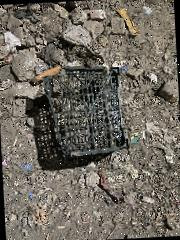general: (115, 6, 140, 36)
plastic: (42, 60, 130, 160)
